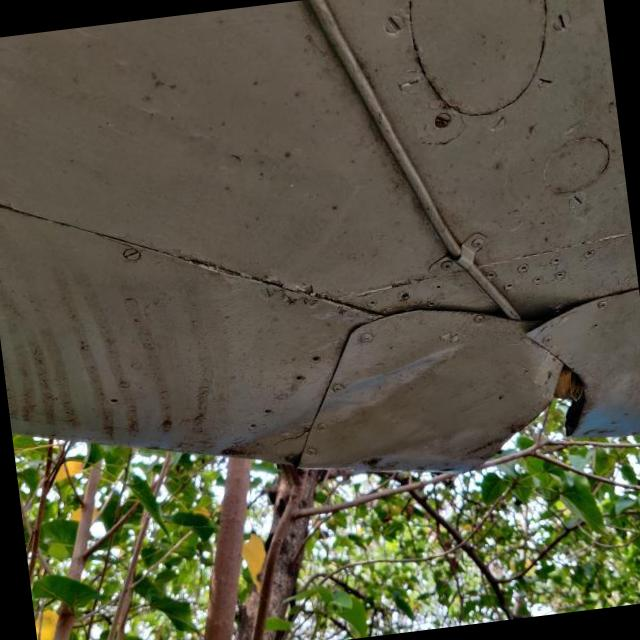Dent: (301, 311, 521, 470)
